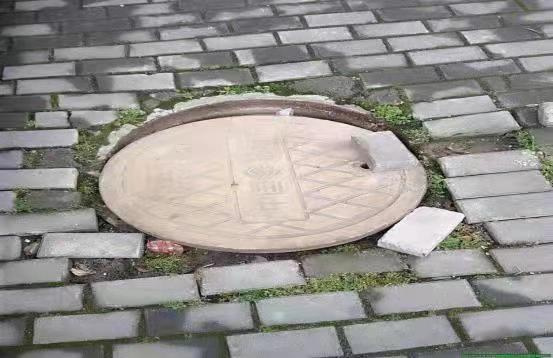uncovered: (97, 92, 429, 254)
